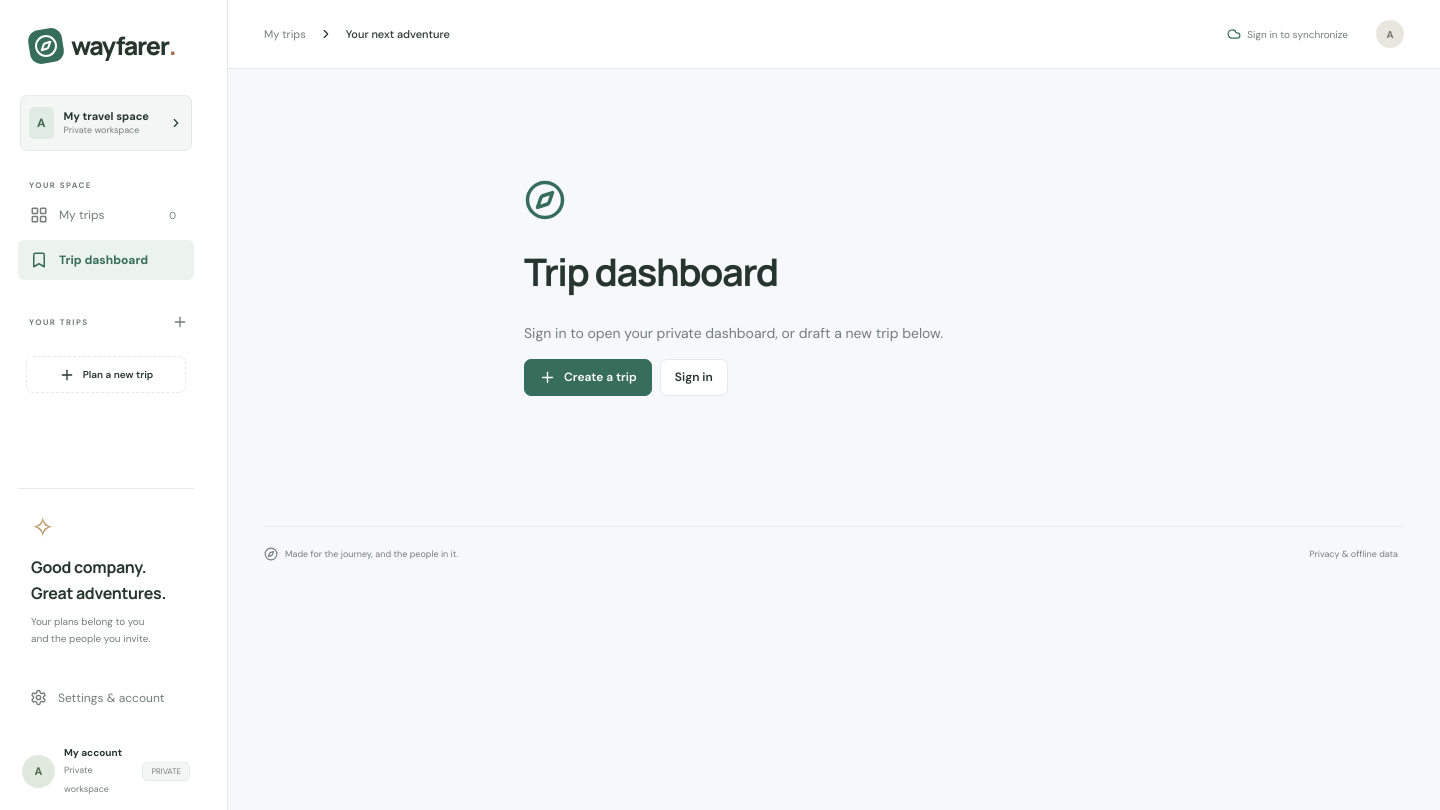
Test case: signed out: Settings & account opens only its intended destination
This screenshot has width=1440, height=810.
Expected: the heading "Trip dashboard" is shown, [524,245,778,297]
Click the button "Settings & account". click: click(106, 698)
box: [18,678,194,717]
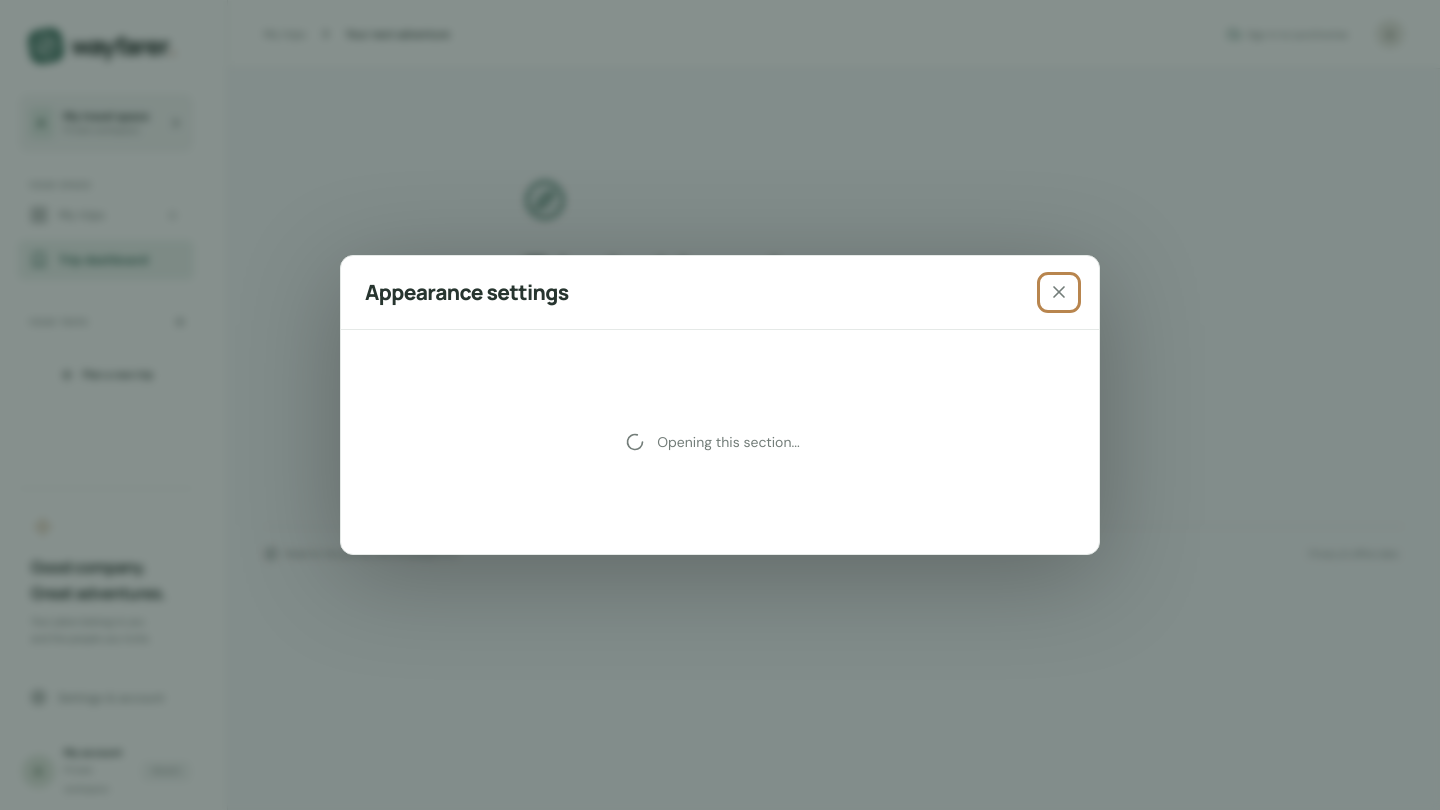
Result: the heading "Appearance settings" is shown at [365,278,569,307]
Click the button named "Close dialog". click: click(1059, 292)
box: [1043,278,1075,307]
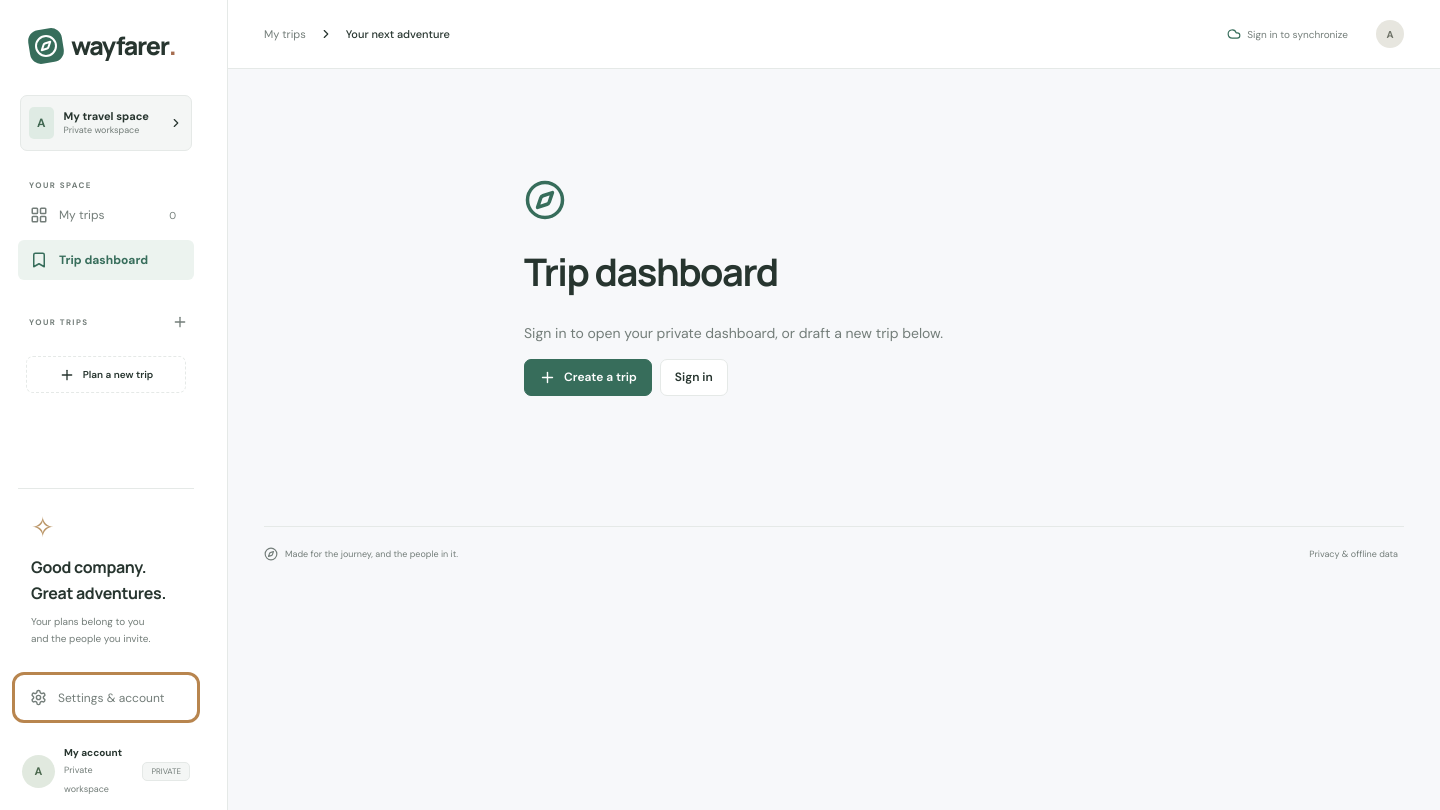
Result: the dialog is gone
